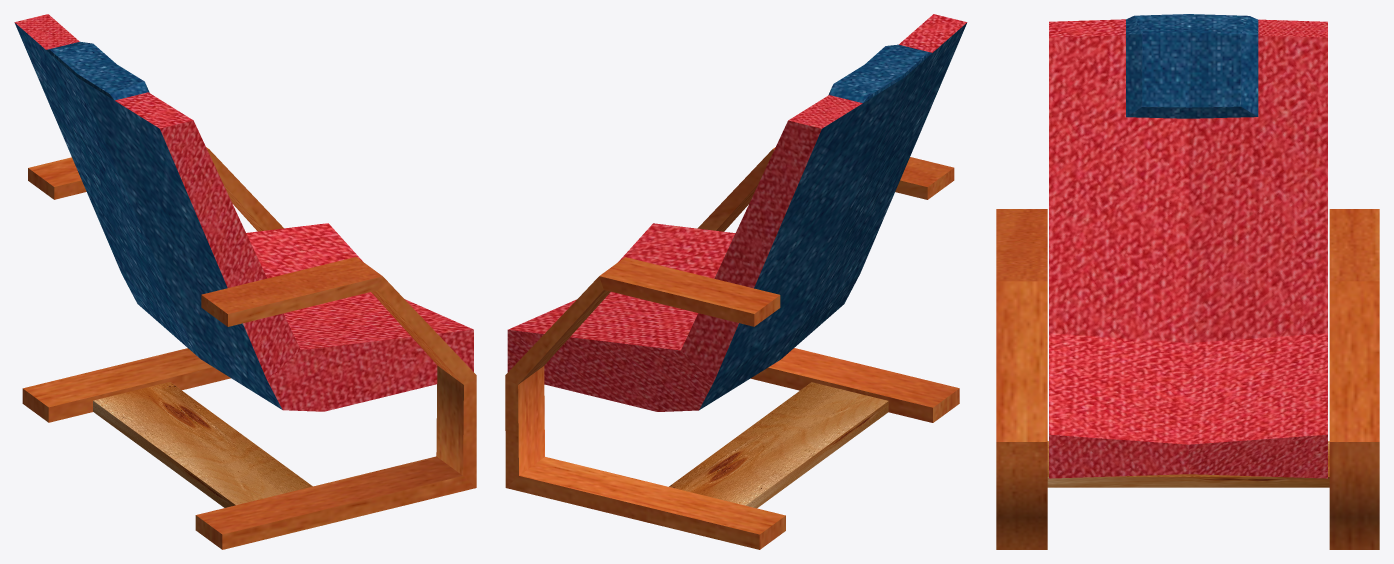
The model's file is armchair.FBX.
The picture shows the model from 3 angles, left to right: view 1: azimuth 30°, elevation 25°; view 2: azimuth 150°, elevation 25°; view 3: azimuth 270°, elevation 25°; orthographic projection. The views are drawn at different scales.
Visible parts, largest first — view 1: Box001, Object001, Object003, Box002, Object002; view 2: Box001, Object001, Object003, Box002, Object002; view 3: Object001, Box001, Object002, Box002.
Boxes of the visible parts, x1,y1,x2,y2 form: Box001: (22, 147, 476, 549); Object001: (14, 14, 473, 411); Object003: (14, 22, 282, 409); Box002: (93, 382, 312, 507); Object002: (46, 41, 149, 100); Box001: (505, 147, 959, 549); Object001: (507, 14, 966, 411); Object003: (699, 23, 966, 410); Box002: (669, 382, 888, 508); Object002: (828, 44, 931, 102); Object001: (1049, 19, 1327, 478); Box001: (996, 209, 1379, 549); Object002: (1126, 14, 1258, 118); Box002: (1047, 441, 1329, 487).
Bounding box in the file's own units: 197 × 241 × 211.
Materials: 4 (4 with a texture image).
